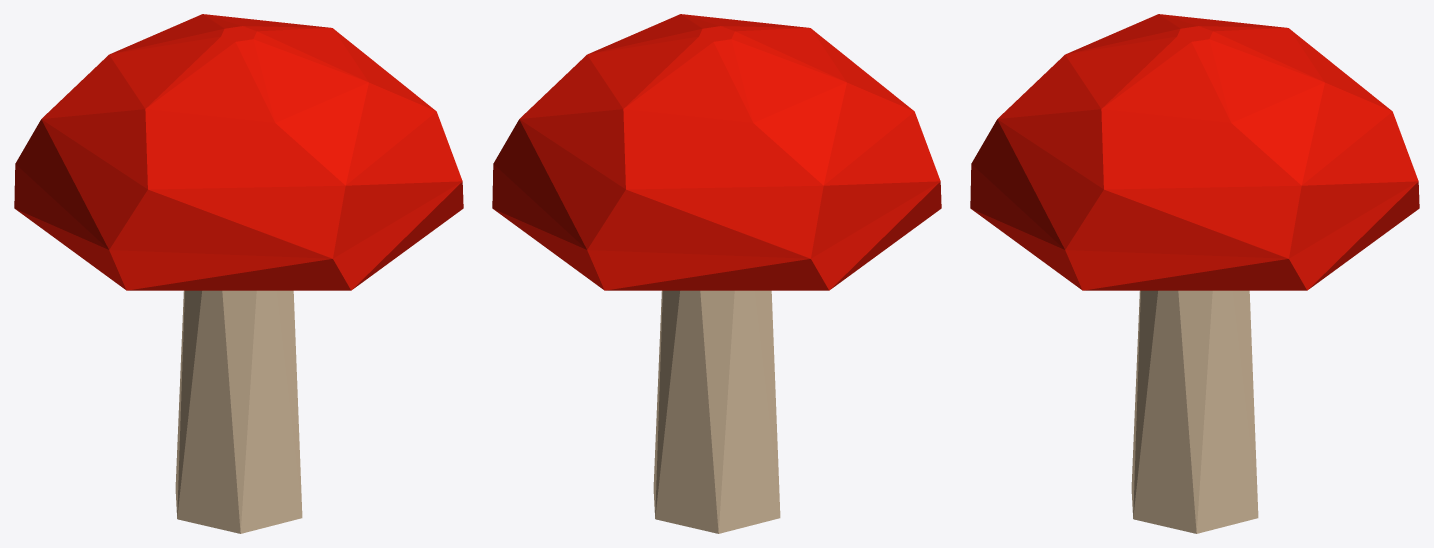
The model's file is Mushroom 2_6.fbx.
3 renders of one model, left to right at view 1: azimuth 30°, elevation 25°; view 2: azimuth 150°, elevation 25°; view 3: azimuth 270°, elevation 25°, orthographic.
Parts seen in each view (by area): view 1: Mushroom 2_6; view 2: Mushroom 2_6; view 3: Mushroom 2_6.
Part boxes in pixels (left/top/right/bottom): Mushroom 2_6: left=14, top=14, right=463, bottom=533; Mushroom 2_6: left=492, top=14, right=941, bottom=533; Mushroom 2_6: left=970, top=14, right=1419, bottom=533.
Size of the model in its own units: 0.391 by 0.4962 by 0.4304.
